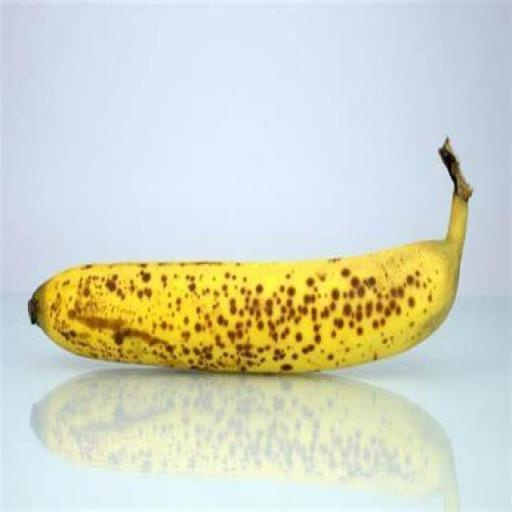fruit: (415, 260, 481, 512), (451, 90, 495, 289)
